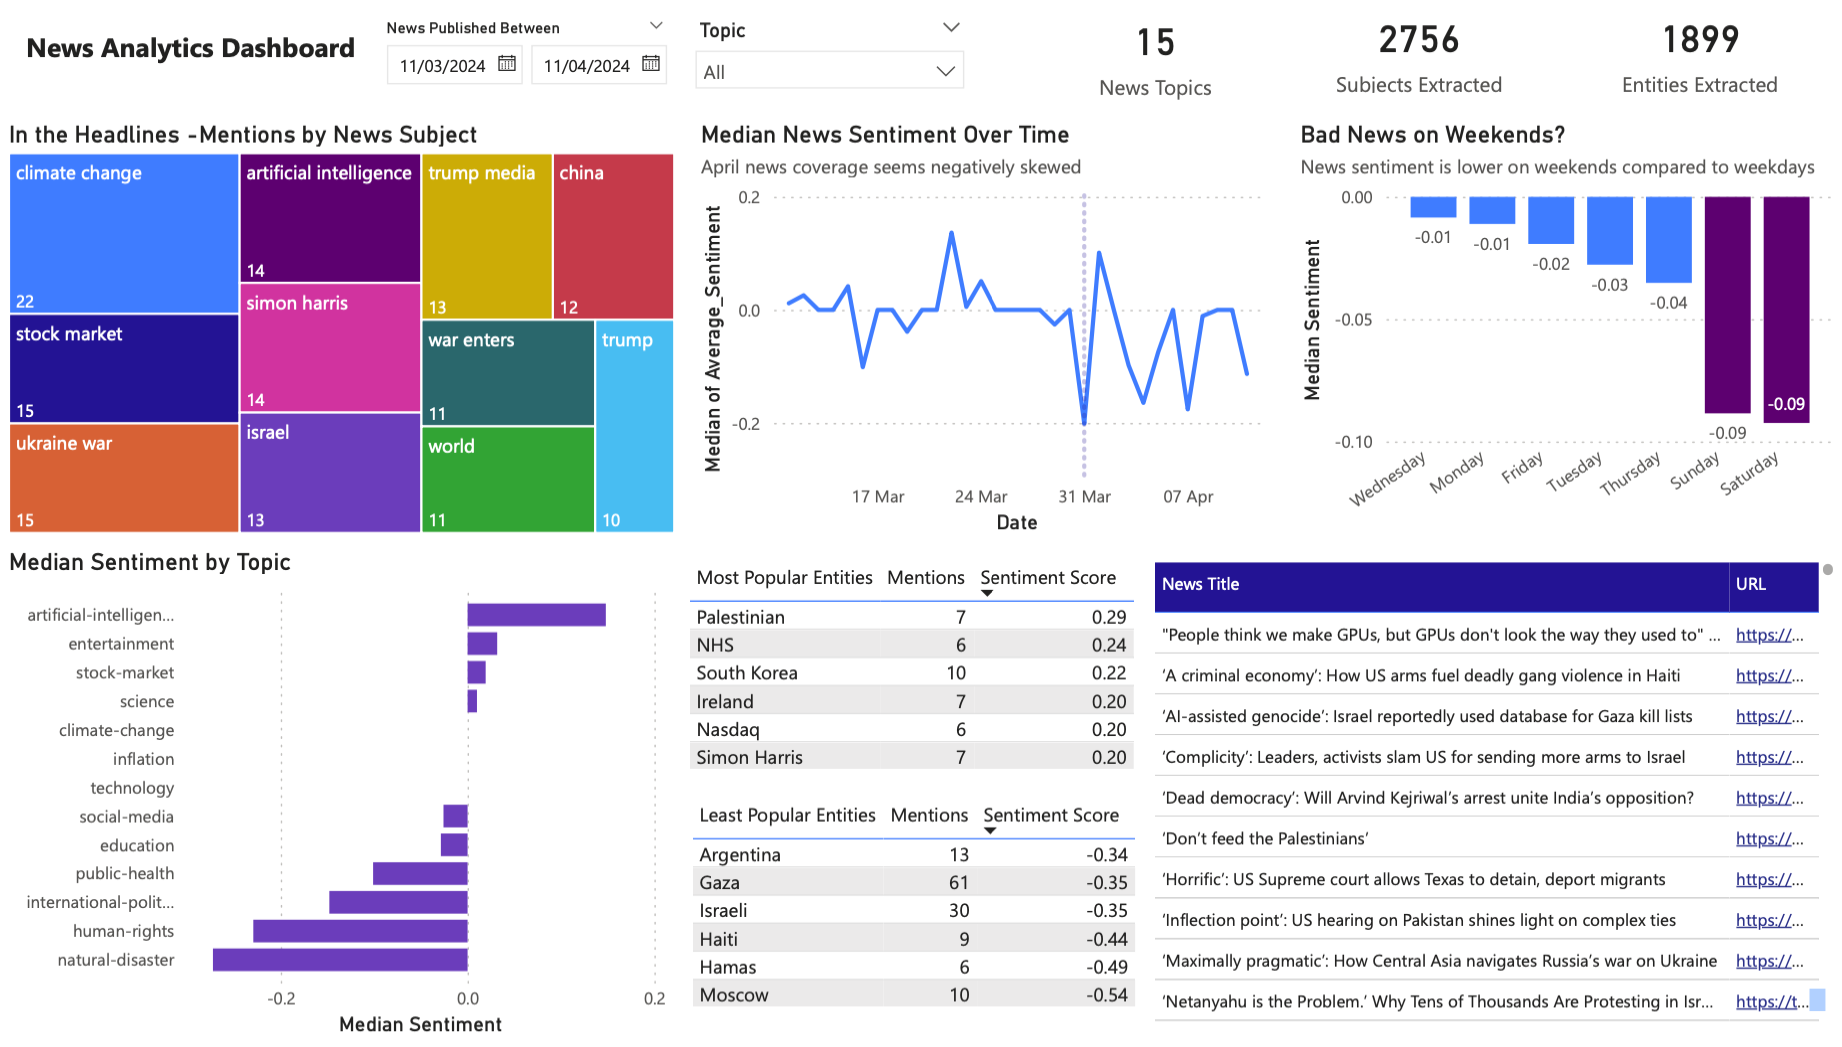

The dashboard page shown, as its layout file describes it:
{"tool":"powerbi","page":{"name":"Page 1","canvas":[1300,740],"ordinal":0},"visuals":[{"type":"textbox","box":[8.3,13.9,250.3,38.8],"z":0},{"type":"card","fields":{"Values":["news.topic"]},"box":[749.6,0,131.1,74.9],"z":1000},{"type":"card","fields":{"Values":["keywords_summary.Keywords"]},"box":[922.9,0,158.1,70],"z":2000},{"type":"card","fields":{"Values":["entities_summary.Entities"]},"box":[1121.2,0,158.8,70],"z":3000},{"type":"slicer","fields":{"Values":["news.publishedAt"]},"box":[258.6,6.9,221.2,60.3],"z":4000},{"type":"tableEx","fields":{"Values":["entities_summary.Entities","entities_summary.Entities","sentiments_summary.Average_Sentiment"]},"box":[480.3,393.7,334.5,164.1],"z":5000},{"type":"treemap","title":"In the Headlines  -Mentions by News Subject","fields":{"Group":["keywords_summary.Keywords"],"Values":["keywords_summary.topic"]},"box":[0,83.9,479.8,299.5],"z":6000},{"type":"columnChart","title":"Bad News on Weekends?","fields":{"Category":["sentiments_summary.Day Name"],"Y":["sentiments_summary.Average_Sentiment"]},"box":[913.4,83.8,386.6,299.3],"z":7000},{"type":"barChart","title":"Median Sentiment by Topic","fields":{"Category":["keywords_summary.topic"],"Y":["sentiments_summary.Average_Sentiment"]},"box":[0,387.6,474.3,352.2],"z":8000},{"type":"tableEx","fields":{"Values":["entities_summary.Entities","entities_summary.Entities","sentiments_summary.Average_Sentiment"]},"box":[482.4,563.4,326.8,176.8],"z":9000},{"type":"lineChart","title":"Median News Sentiment Over Time","fields":{"Category":["sentiments_summary.Date"],"Y":["sentiments_summary.Average_Sentiment"]},"box":[488.7,83.8,414.1,299.3],"z":10000},{"type":"slicer","fields":{"Values":["news.topic"]},"box":[479.8,6.9,210.1,60.3],"z":11000},{"type":"tableEx","fields":{"Values":["news.title","news.url"]},"box":[809.2,393.7,490.8,345.8],"z":12000}]}

Visuals, with their boxes in screenshot pixels (x1, y1, x2, y2), scaled from the page's 1300x740 canvas onto the 1842x1047 screenshot:
textbox: 12 20 366 75
card - news.topic: 1062 0 1248 106
card - keywords_summary.Keywords: 1308 0 1532 99
card - entities_summary.Entities: 1589 0 1814 99
slicer - news.publishedAt: 366 10 680 95
tableEx - entities_summary.Entities x entities_summary.Entities: 681 557 1155 789
"In the Headlines  -Mentions by News Subject" treemap: 0 119 680 542
"Bad News on Weekends?" columnChart: 1294 119 1841 542
"Median Sentiment by Topic" barChart: 0 548 672 1046
tableEx - entities_summary.Entities x entities_summary.Entities: 684 797 1147 1046
"Median News Sentiment Over Time" lineChart: 692 119 1279 542
slicer - news.topic: 680 10 978 95
tableEx - news.title x news.url: 1147 557 1841 1046
